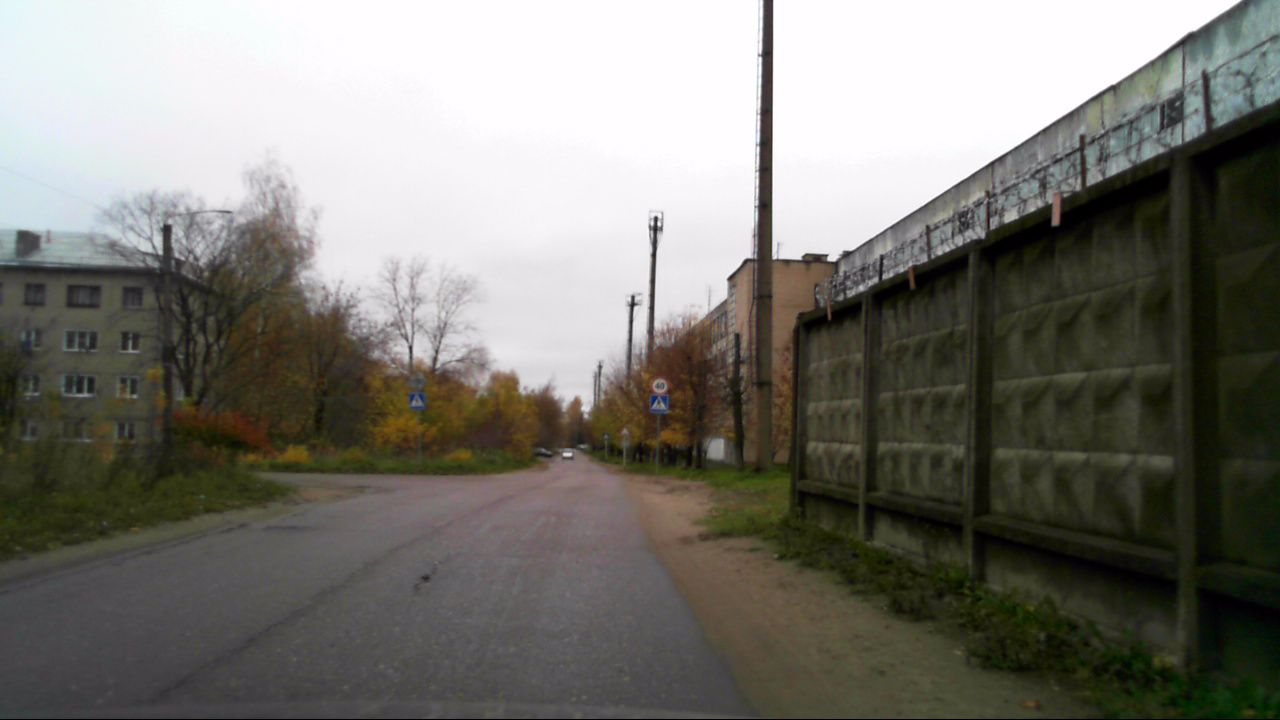speed_warning_40: (650, 376, 670, 394)
